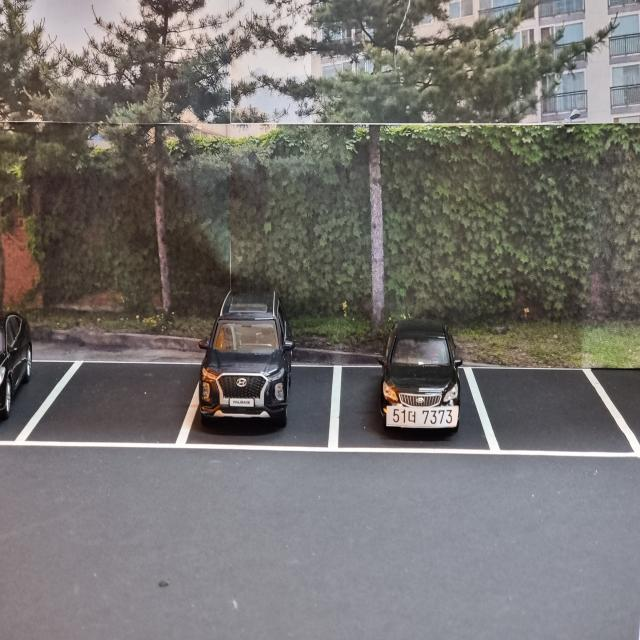empty: (466, 357, 620, 462), (34, 359, 204, 452)
occupied: (198, 288, 301, 430), (375, 319, 461, 432)
